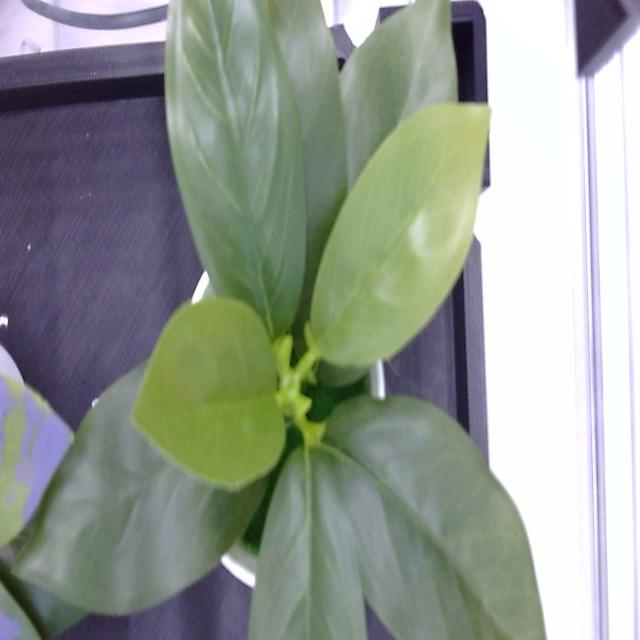Green: (13, 363, 266, 634), (166, 0, 346, 336), (326, 396, 546, 639), (310, 102, 490, 366), (133, 298, 325, 492), (248, 447, 366, 639), (340, 0, 457, 188)
